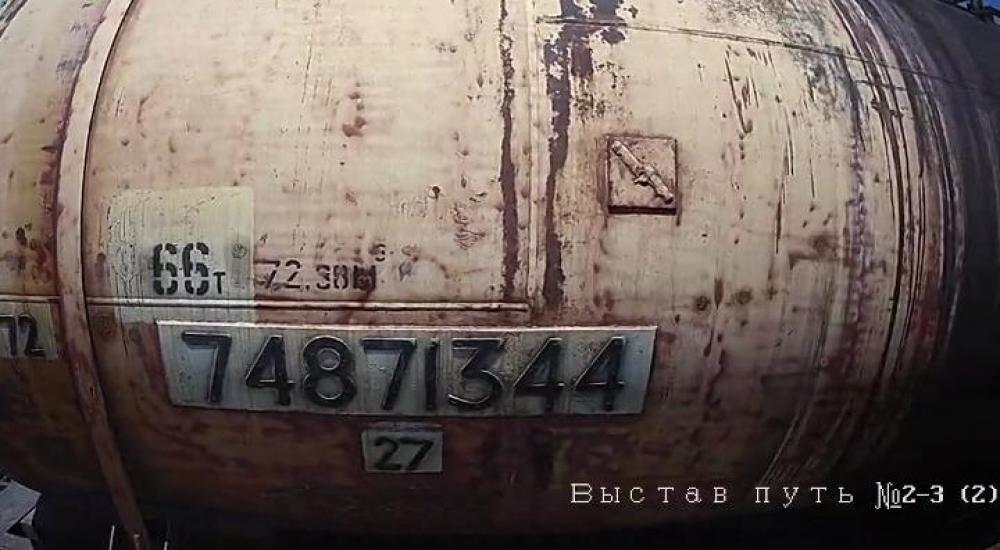Wagon-number: (167, 322, 632, 417)
